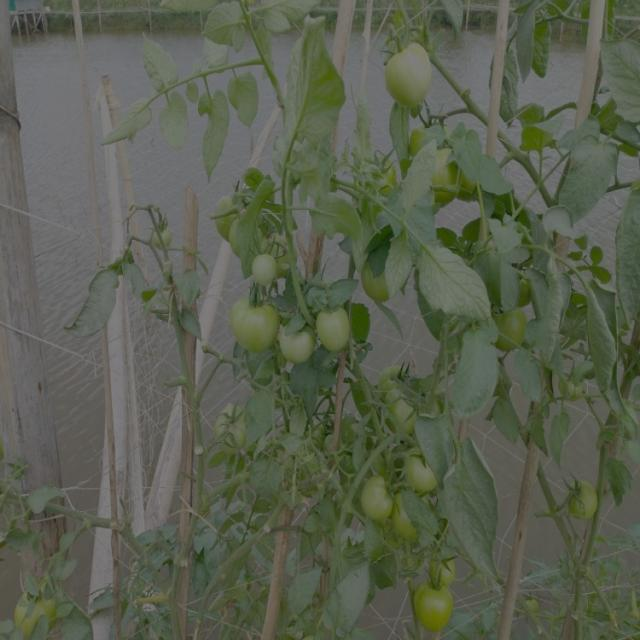tomato: (387, 42, 438, 112), (230, 292, 278, 351), (211, 403, 254, 457), (401, 444, 446, 494), (418, 583, 460, 632), (562, 475, 602, 526), (362, 252, 399, 307), (14, 590, 57, 637), (277, 317, 318, 365), (214, 186, 251, 239), (493, 304, 534, 351), (319, 305, 355, 357), (404, 116, 447, 155), (362, 474, 394, 523), (555, 364, 592, 403), (430, 154, 460, 202), (371, 151, 402, 197), (388, 393, 426, 430), (250, 246, 281, 287), (396, 507, 421, 548), (434, 546, 460, 583), (381, 361, 410, 391), (520, 591, 542, 618)
